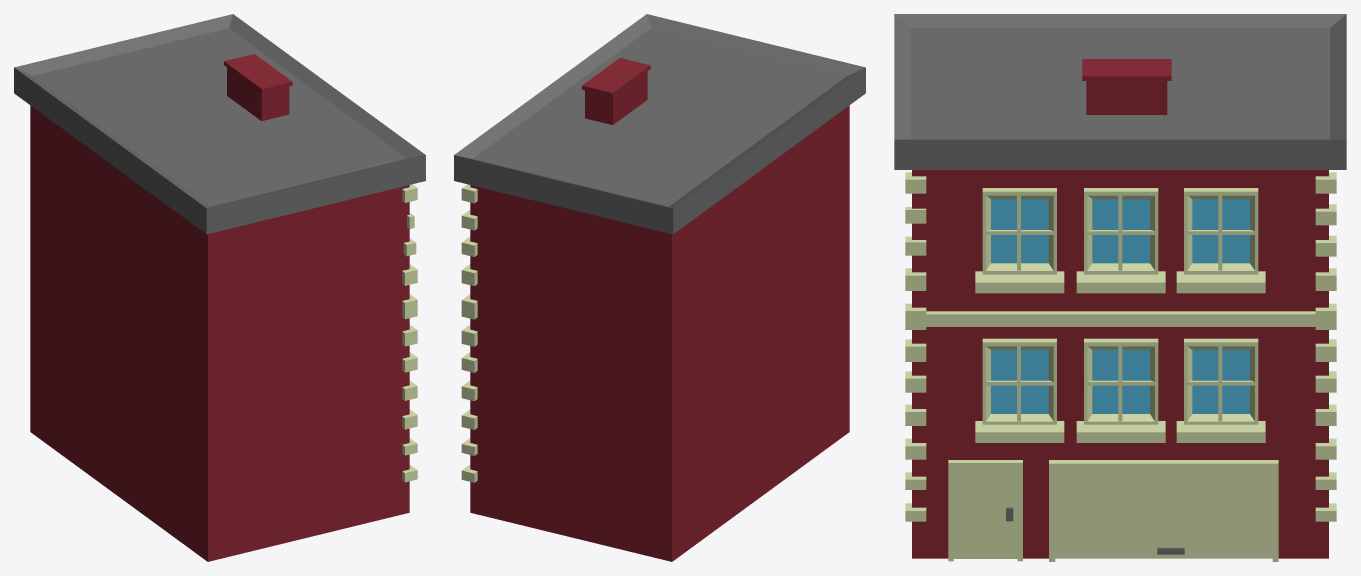
The model's file is edificio2.fbx.
3 renders of one model, left to right at view 1: azimuth 30°, elevation 25°; view 2: azimuth 150°, elevation 25°; view 3: azimuth 270°, elevation 25°, orthographic. The views are drawn at different scales.
Visible parts, largest first — view 1: Cube.047, Cube.048, Cube.049; view 2: Cube.047, Cube.048, Cube.049; view 3: Cube.047, Cube.048, Cube.050, Cube.051, Cube.039, Cube.044, Cube.053, Cube.032, Cube.035, Cube.041, Cube.029, Cube.049 (+12 smaller).
Part boxes in pixels (x1,y1,x2,y2): Cube.047: (30, 105, 409, 561); Cube.048: (14, 14, 425, 234); Cube.049: (224, 54, 292, 120); Cube.047: (470, 105, 849, 561); Cube.048: (454, 14, 865, 234); Cube.049: (582, 58, 650, 124); Cube.047: (912, 170, 1328, 558); Cube.048: (894, 14, 1346, 169); Cube.050: (1049, 460, 1278, 561); Cube.051: (948, 460, 1022, 561); Cube.039: (908, 311, 1333, 326); Cube.044: (1084, 338, 1158, 424); Cube.053: (1184, 338, 1258, 424); Cube.032: (1084, 188, 1158, 274); Cube.035: (1184, 188, 1258, 274); Cube.041: (982, 338, 1056, 424); Cube.029: (982, 188, 1056, 274); Cube.049: (1082, 59, 1171, 114).
Size of the model in its own units: 634 by 1024 by 919.
